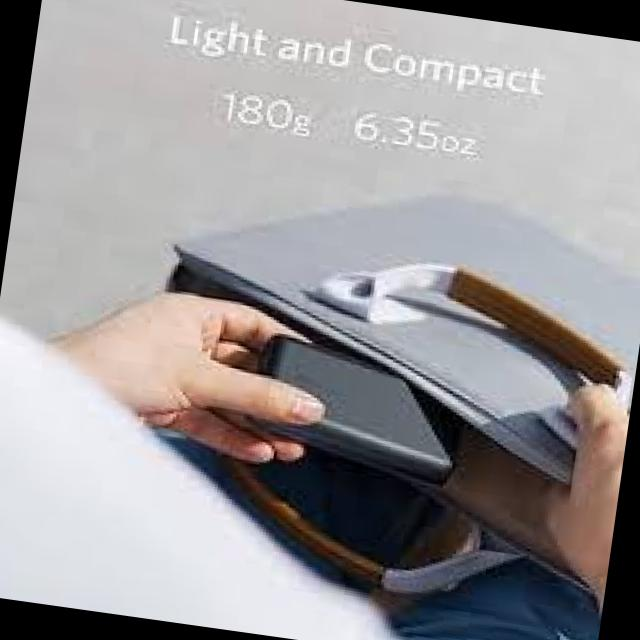power_bank: (235, 327, 470, 492)
